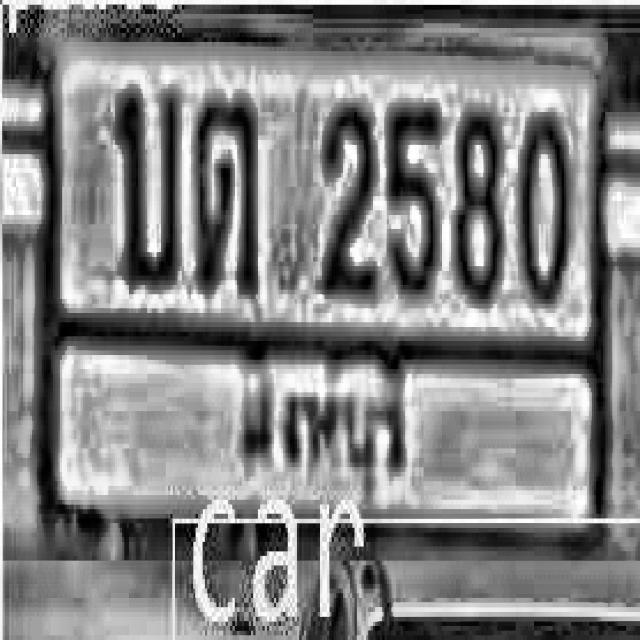license-plate: (44, 17, 613, 550)
